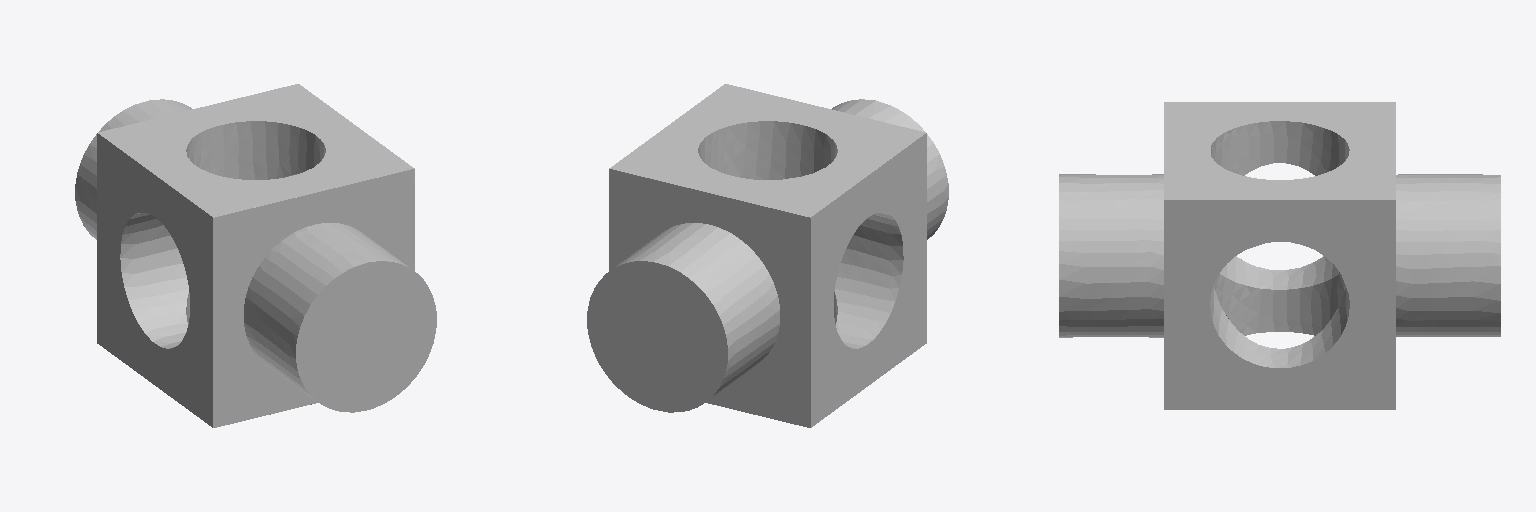
Rendered from block.obj.
3 renders of one model, left to right at view 1: azimuth 30°, elevation 25°; view 2: azimuth 150°, elevation 25°; view 3: azimuth 270°, elevation 25°, orthographic.
Size of the model in its own units: 20 by 20 by 38.